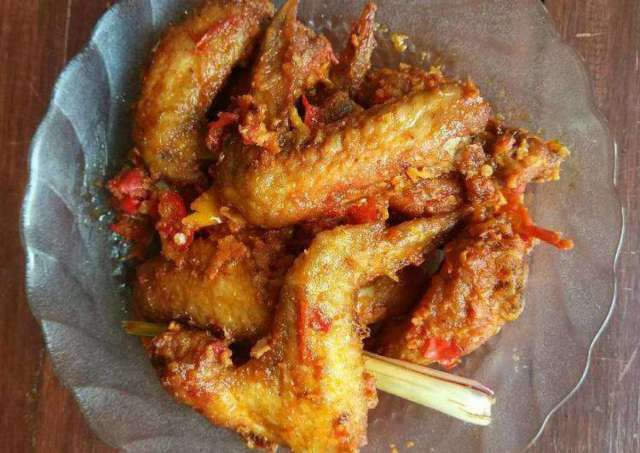Ayam: (123, 219, 453, 453), (125, 39, 502, 228)
